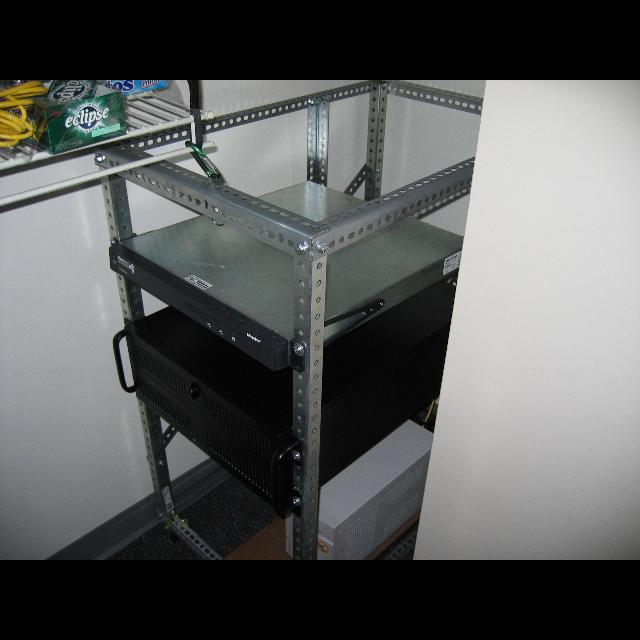Server: (90, 144, 350, 560)
